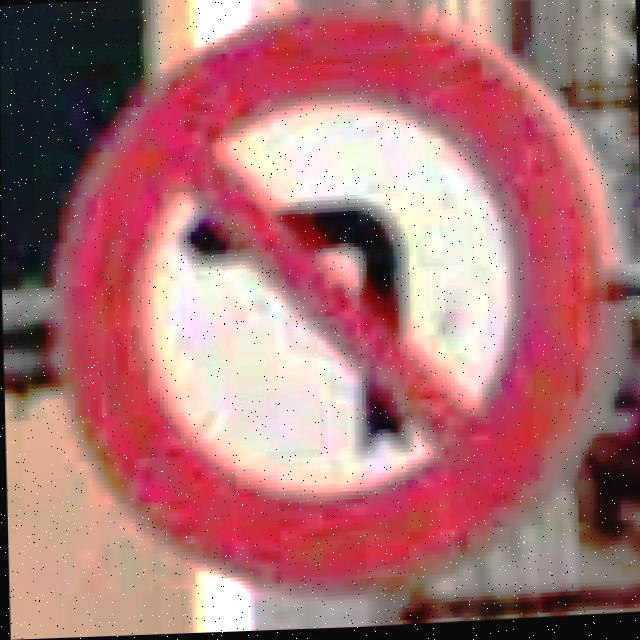noturnleft: (42, 0, 629, 608)
